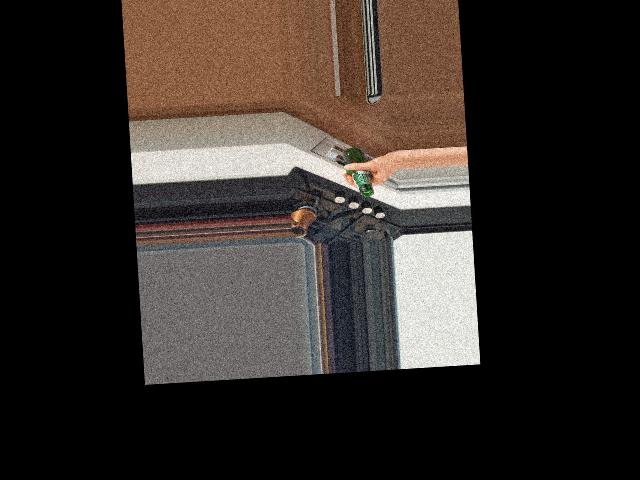beer: (343, 146, 374, 197)
